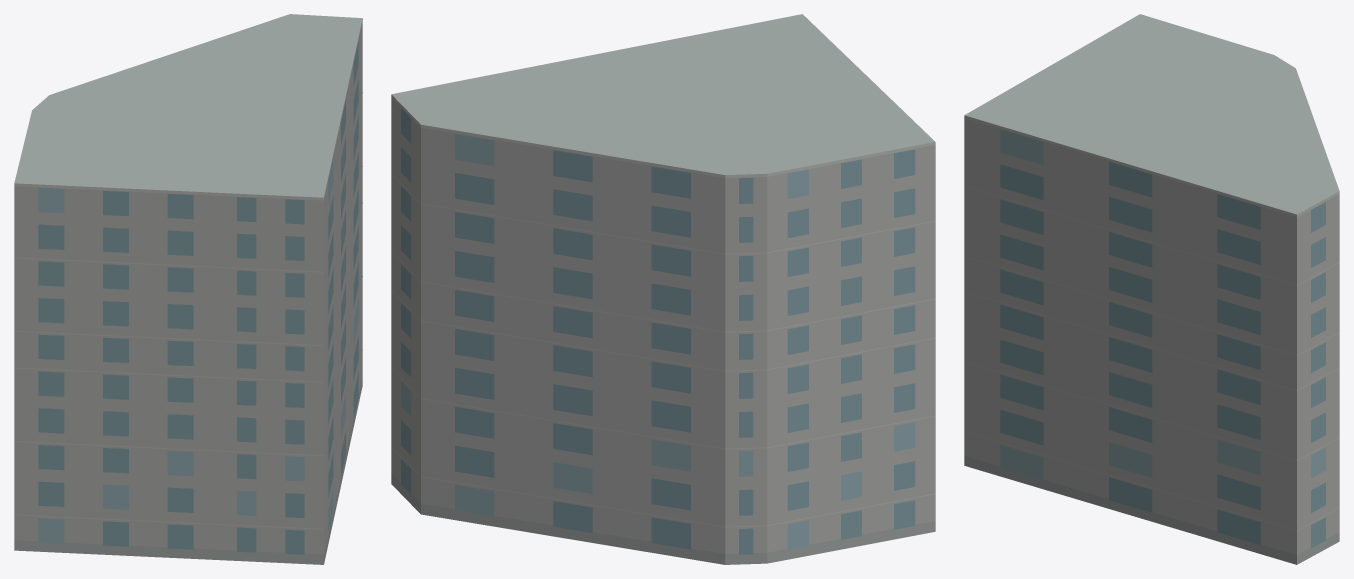
Rendered from residential-f42ea0b4-2a62-46dd-a501-30019509333c.glb.
The picture shows the model from 3 angles, left to right: view 1: azimuth 30°, elevation 25°; view 2: azimuth 150°, elevation 25°; view 3: azimuth 270°, elevation 25°; orthographic projection. The views are drawn at different scales.
Parts seen in each view (by area): view 1: residential-f42ea0b4-2a62-46dd-a501-30019509333c.tmp; view 2: residential-f42ea0b4-2a62-46dd-a501-30019509333c.tmp; view 3: residential-f42ea0b4-2a62-46dd-a501-30019509333c.tmp.
Part boxes in pixels (left/top/right/bottom): residential-f42ea0b4-2a62-46dd-a501-30019509333c.tmp: left=14, top=14, right=362, bottom=564; residential-f42ea0b4-2a62-46dd-a501-30019509333c.tmp: left=391, top=14, right=935, bottom=564; residential-f42ea0b4-2a62-46dd-a501-30019509333c.tmp: left=964, top=14, right=1339, bottom=564.
Bounding box in the file's own units: 37.45 × 30.5 × 29.64.
